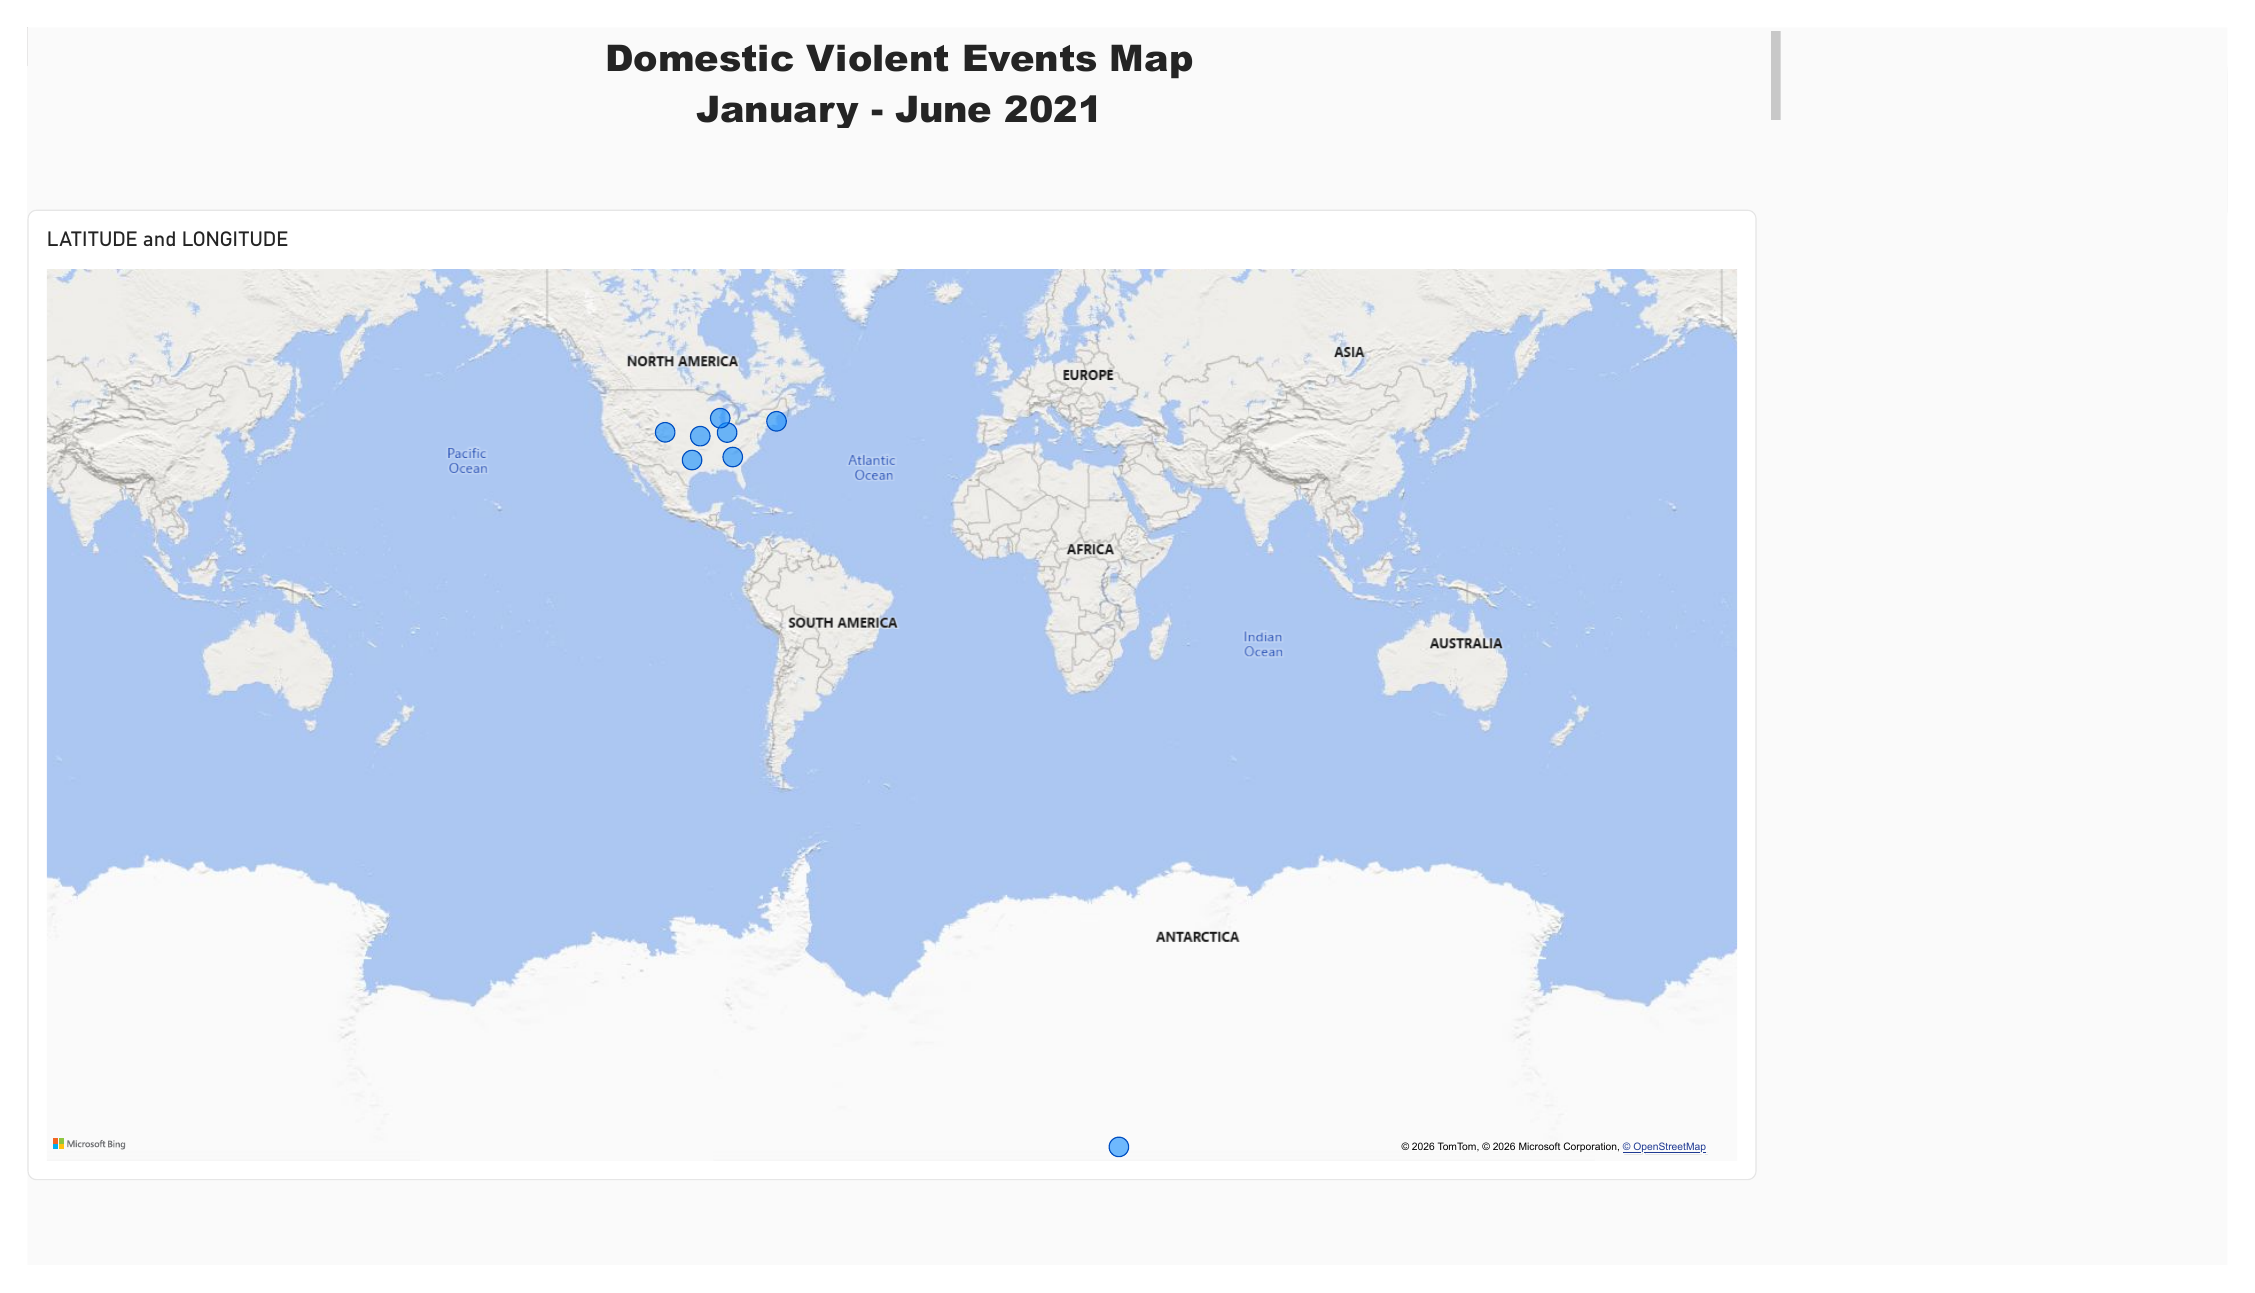

The page's visual inventory and layout, read from the dashboard file:
{"tool":"powerbi","page":{"name":"Domestic Map","canvas":[1920,1080],"ordinal":1},"visuals":[{"type":"map","fields":{"Y":["STG_GTD_EVENTS.LATITUDE"],"X":["STG_GTD_EVENTS.LONGITUDE"]},"box":[0,158.6,1508.6,847.1],"z":0},{"type":"textbox","box":[0,2.9,1530,84.3],"z":1000}]}

Visuals, with their boxes in screenshot pixels (x1, y1, x2, y2), scaled from the page's 1920x1080 canvas onto the 2255x1293 screenshot:
map - STG_GTD_EVENTS.LATITUDE x STG_GTD_EVENTS.LONGITUDE: locate(0, 190, 1772, 1204)
textbox: locate(0, 3, 1797, 104)
